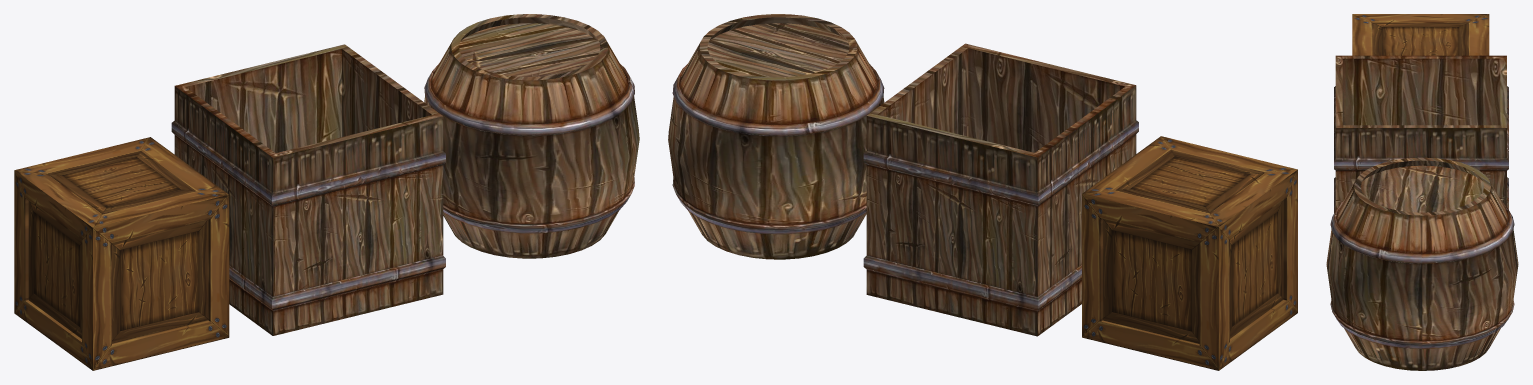
3 renders of one model, left to right at view 1: azimuth 30°, elevation 25°; view 2: azimuth 150°, elevation 25°; view 3: azimuth 270°, elevation 25°, orthographic. The views are drawn at different scales.
Visible parts, largest first — view 1: caisse.001, barel.004, Cube; view 2: caisse.001, barel.004, Cube; view 3: barel.004, caisse.001, Cube.
Part boxes in pixels (x1,y1,x2,y2): caisse.001: (171, 44, 445, 335); barel.004: (424, 14, 639, 258); Cube: (14, 137, 229, 370); caisse.001: (863, 43, 1138, 336); barel.004: (668, 14, 884, 259); Cube: (1082, 136, 1297, 370); barel.004: (1326, 157, 1518, 370); caisse.001: (1334, 55, 1508, 212); Cube: (1352, 14, 1489, 55).
Size of the model in its own units: 336 by 100 by 112.
3 materials, 3 textured.
